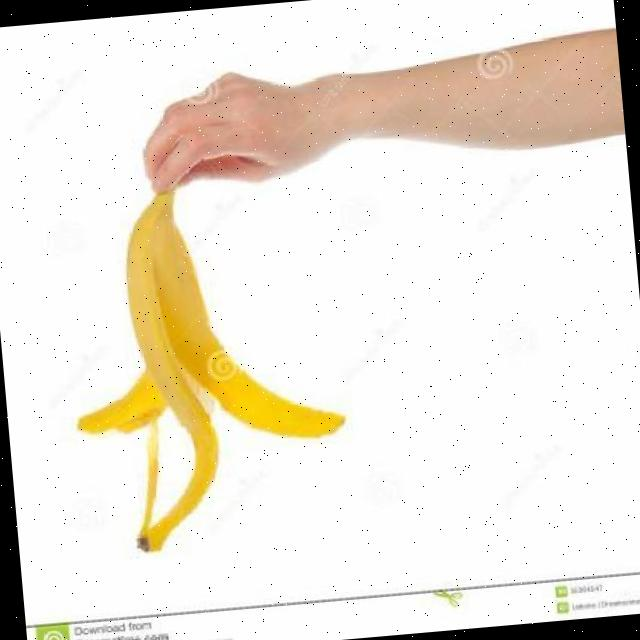banana-peel: (55, 170, 355, 556)
